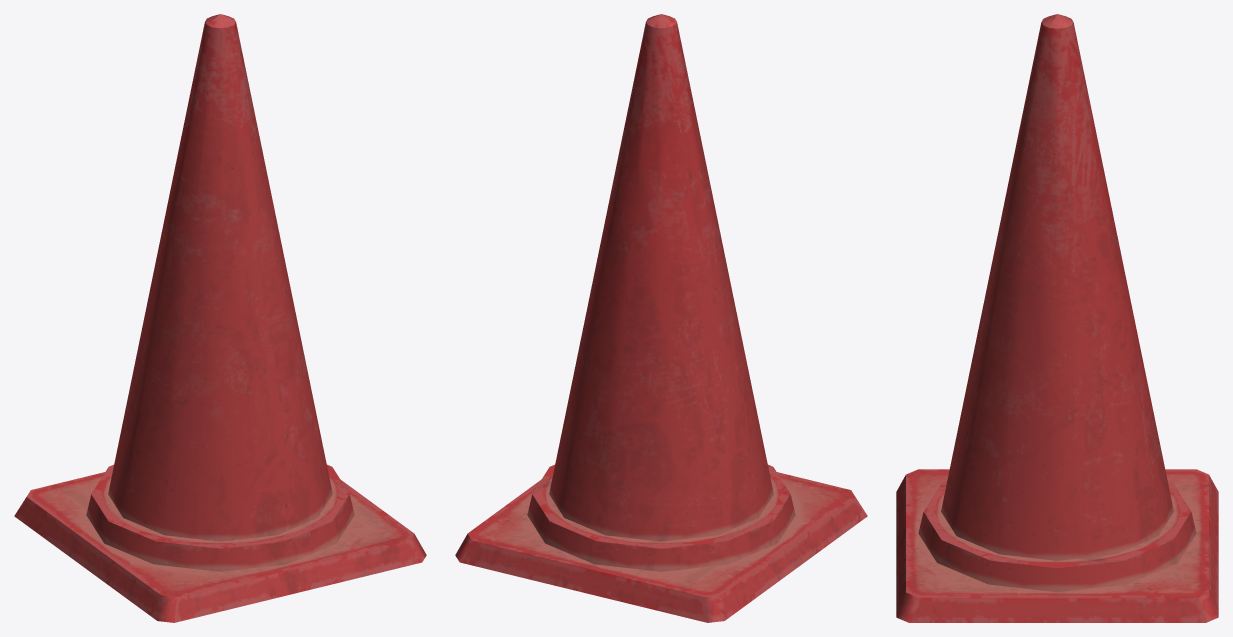
The model's file is jctRoadConeA.fbx.
The picture shows the model from 3 angles, left to right: view 1: azimuth 30°, elevation 25°; view 2: azimuth 150°, elevation 25°; view 3: azimuth 270°, elevation 25°; orthographic projection. The views are drawn at different scales.
Visible parts, largest first — view 1: jctRoadConeA; view 2: jctRoadConeA; view 3: jctRoadConeA.
Part boxes in pixels (x1=…): jctRoadConeA: x1=14, y1=14, x2=426, y2=622; jctRoadConeA: x1=455, y1=14, x2=867, y2=622; jctRoadConeA: x1=896, y1=14, x2=1218, y2=622.
Bounding box in the file's own units: 40 × 74.01 × 40.
